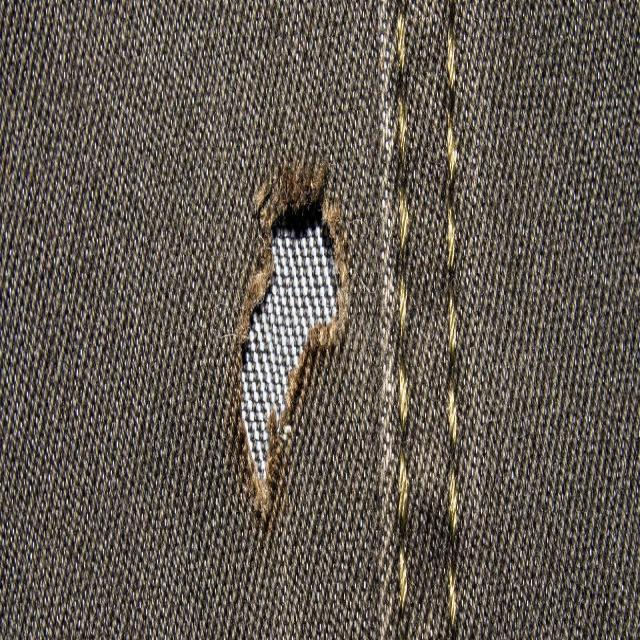Hole: (236, 165, 348, 524)
Line: (393, 0, 411, 616), (447, 0, 459, 640), (400, 500, 408, 562)
